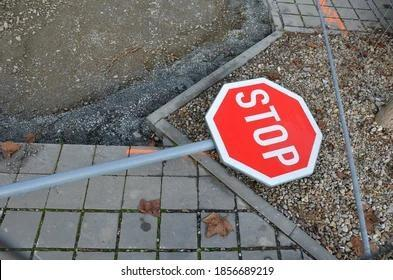Stop-Sign: (200, 74, 328, 194)
